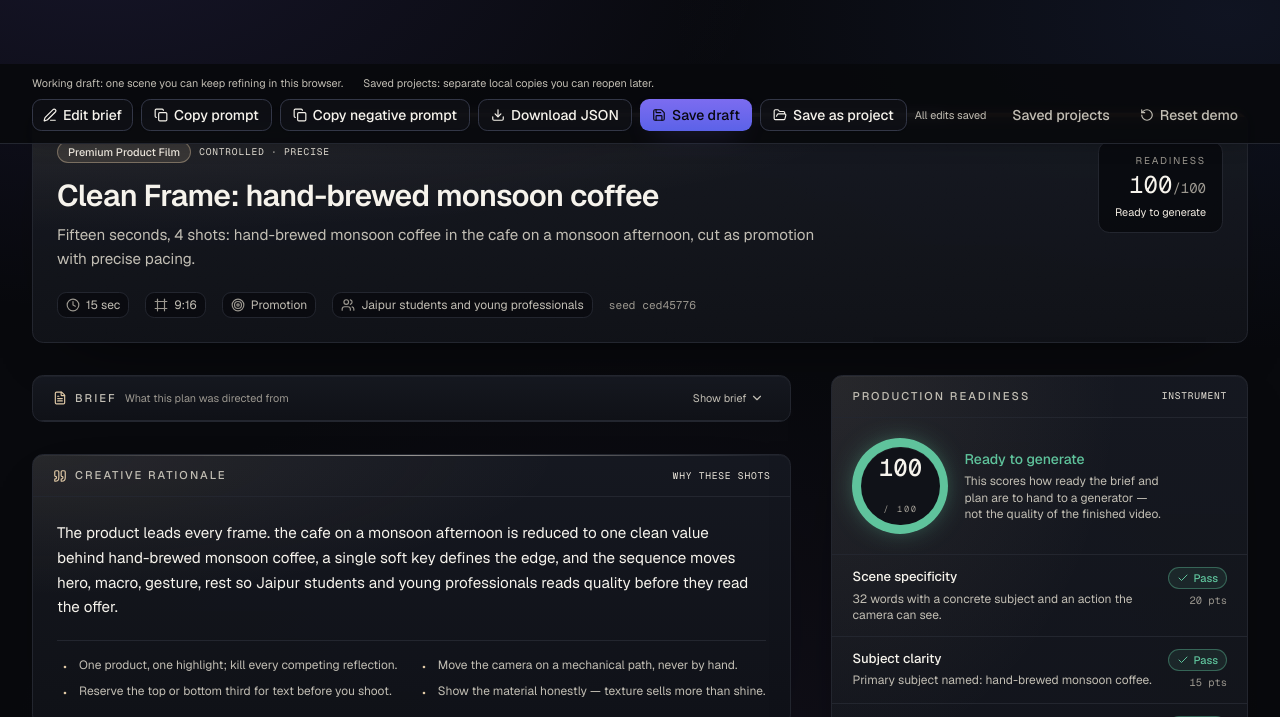
Scenario: BriefPanel › shows the exact directed values for the current draft
The width and height of the screenshot is (1280, 717).
Click the button "Show brief": (729, 398) [687, 388, 770, 408]
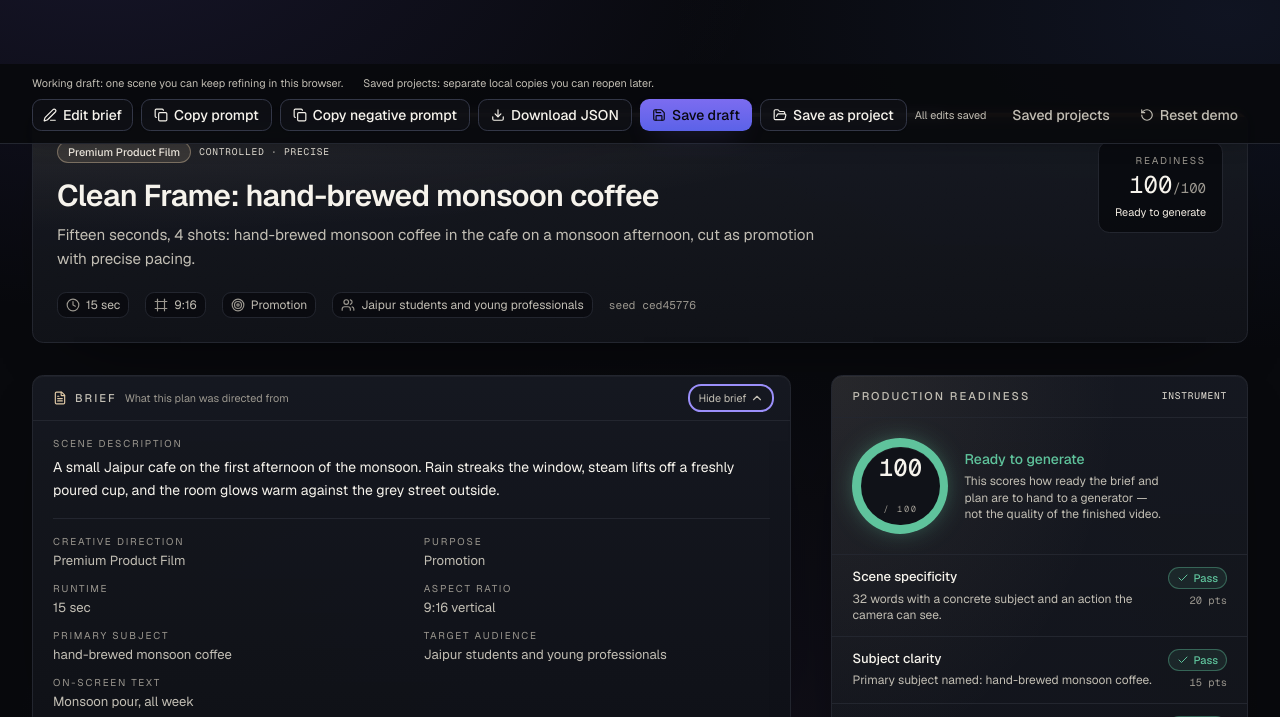
Check: the text "A small Jaipur cafe on the first afternoon of the monsoon. Rain streaks the window, steam lifts off a freshly poured cup" is shown, box [53, 458, 734, 499]
Check: the text "Premium Product Film" below "Creative direction" is shown, box [53, 552, 186, 569]
Check: the text "Promotion" is shown, box [424, 552, 485, 569]
